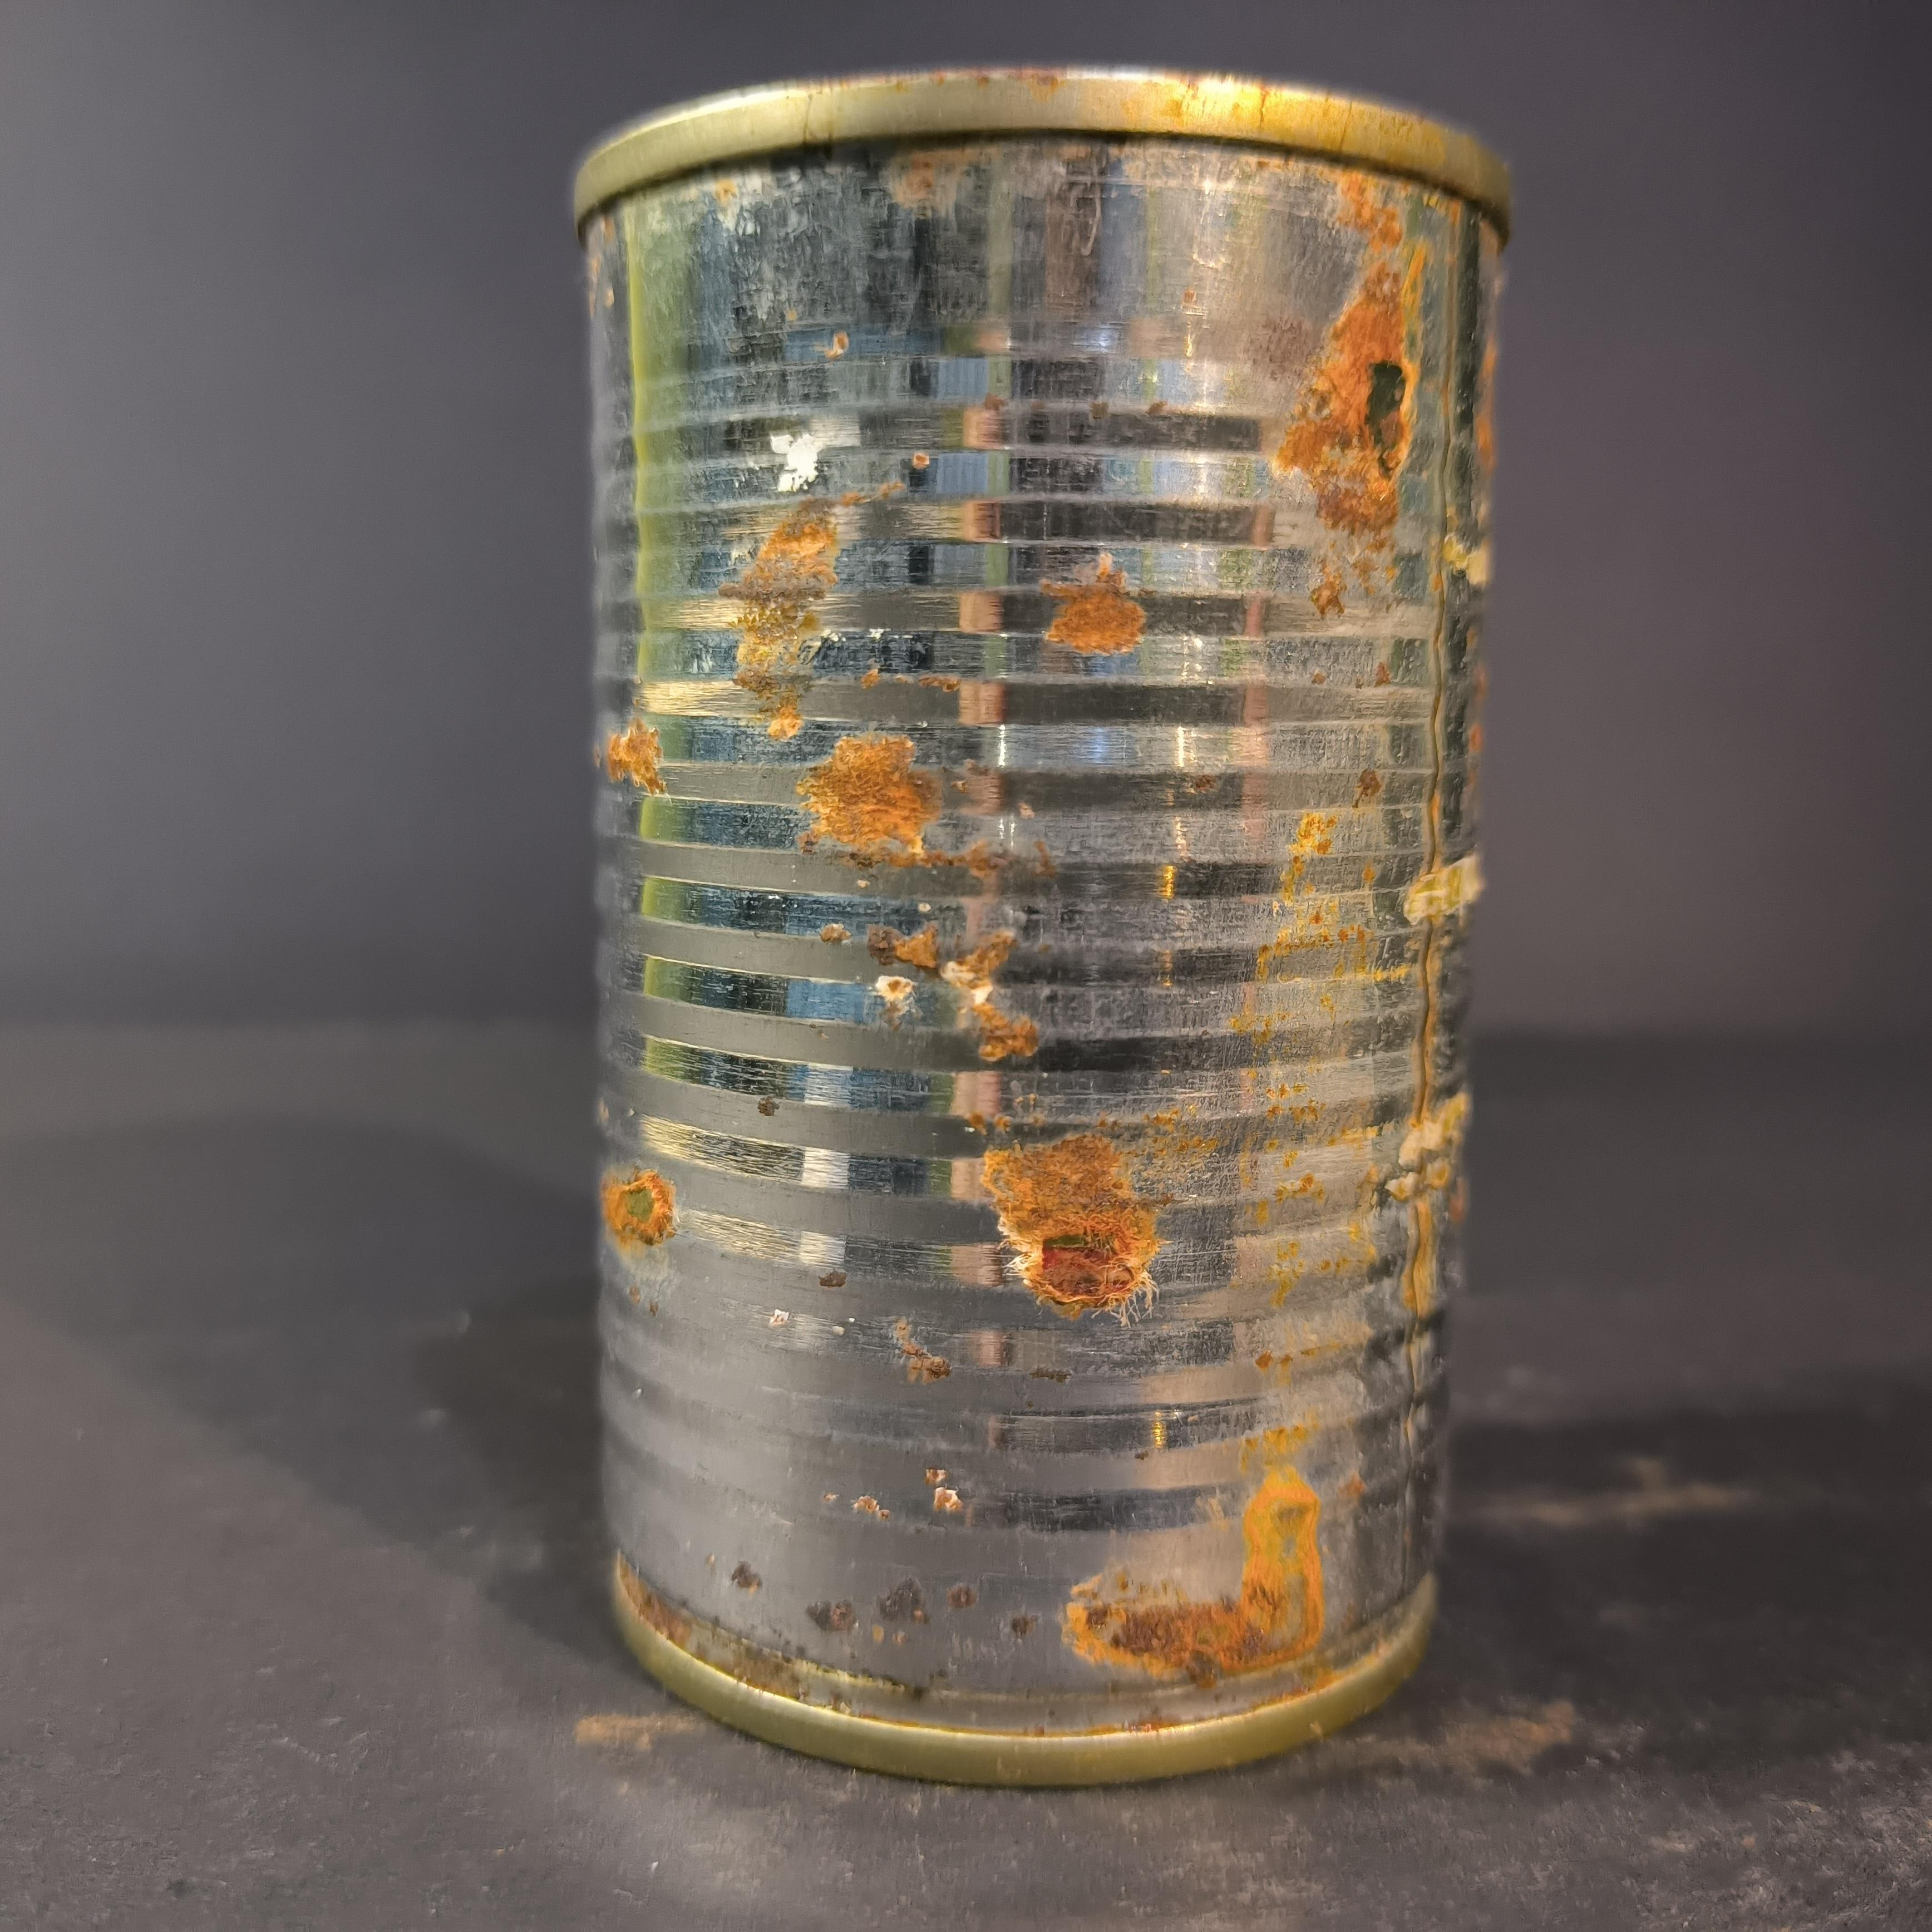Rusted: (543, 39, 1530, 1808)
